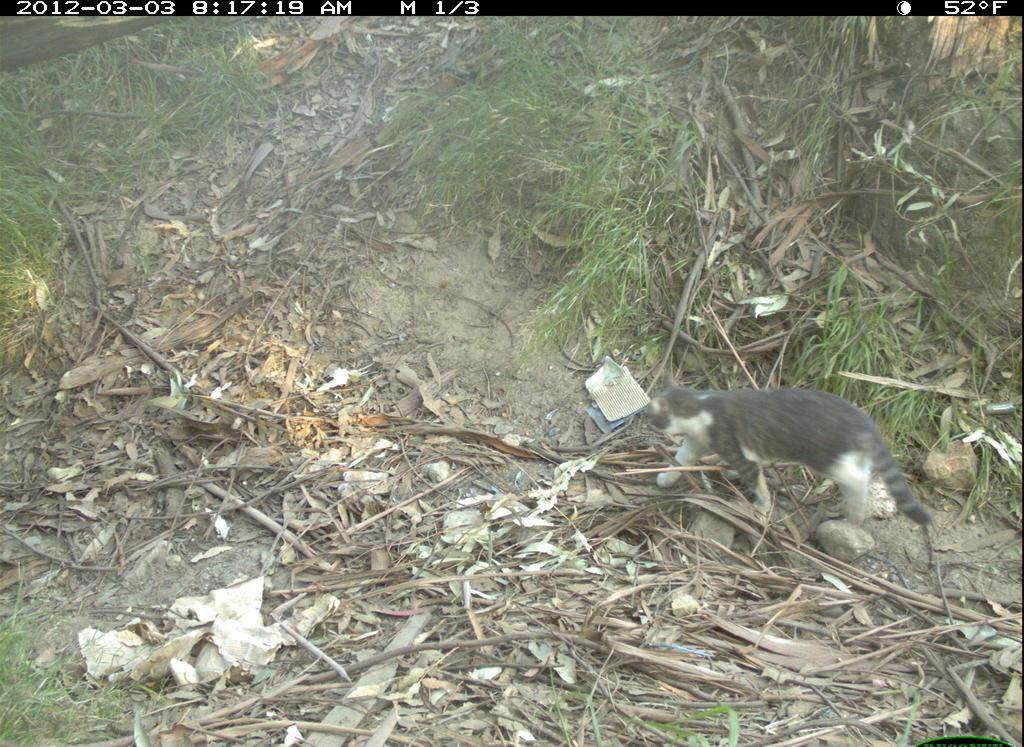cat: (637, 360, 941, 565)
